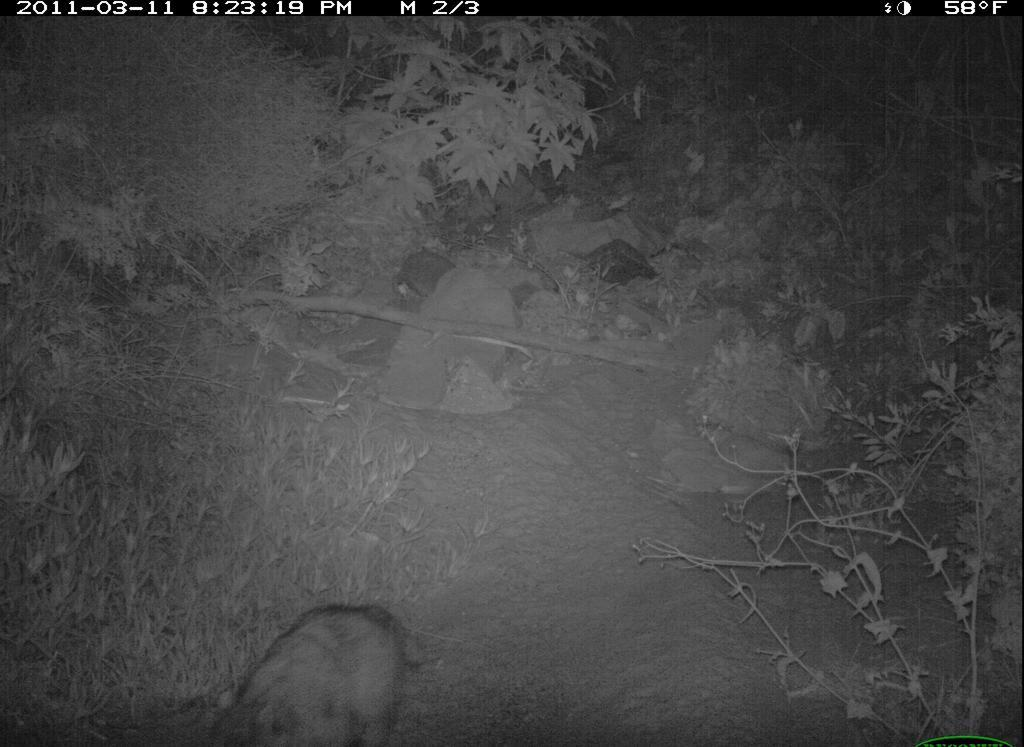raccoon: (201, 588, 441, 747)
